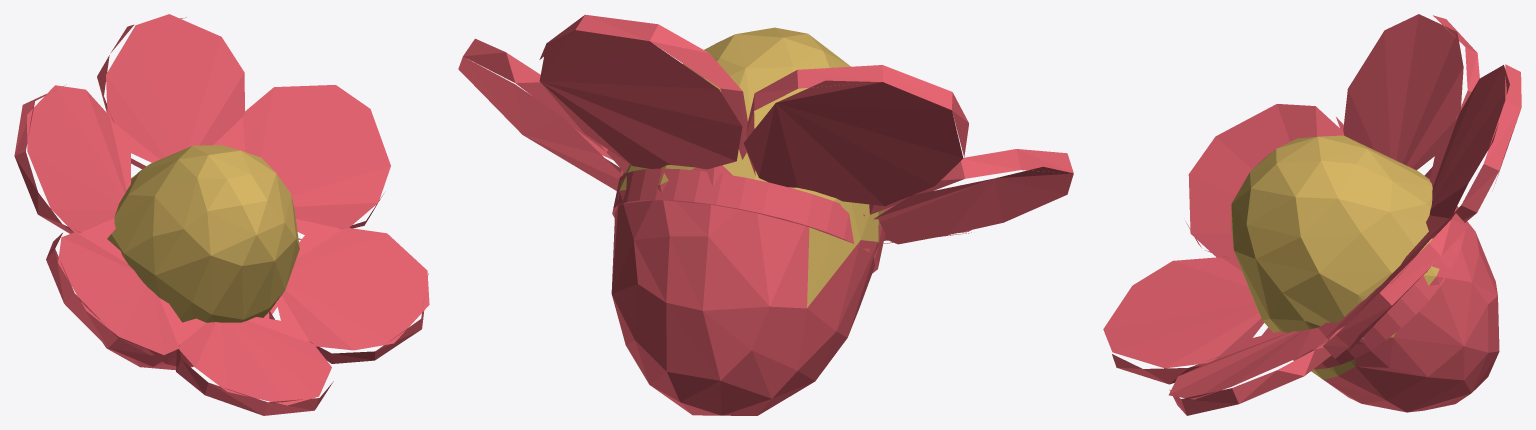
Rendered from flower-small.gltf.
3 renders of one model, left to right at view 1: azimuth 30°, elevation 25°; view 2: azimuth 150°, elevation 25°; view 3: azimuth 270°, elevation 25°, orthographic. The views are drawn at different scales.
Visible parts, largest first — view 1: flower-small; view 2: flower-small; view 3: flower-small.
Boxes of the visible parts, x1,y1,x2,y2 form: flower-small: [14, 14, 429, 415]; flower-small: [458, 14, 1073, 415]; flower-small: [1103, 14, 1521, 415].
Bounding box in the file's own units: 0.3545 × 0.2707 × 0.2955.
